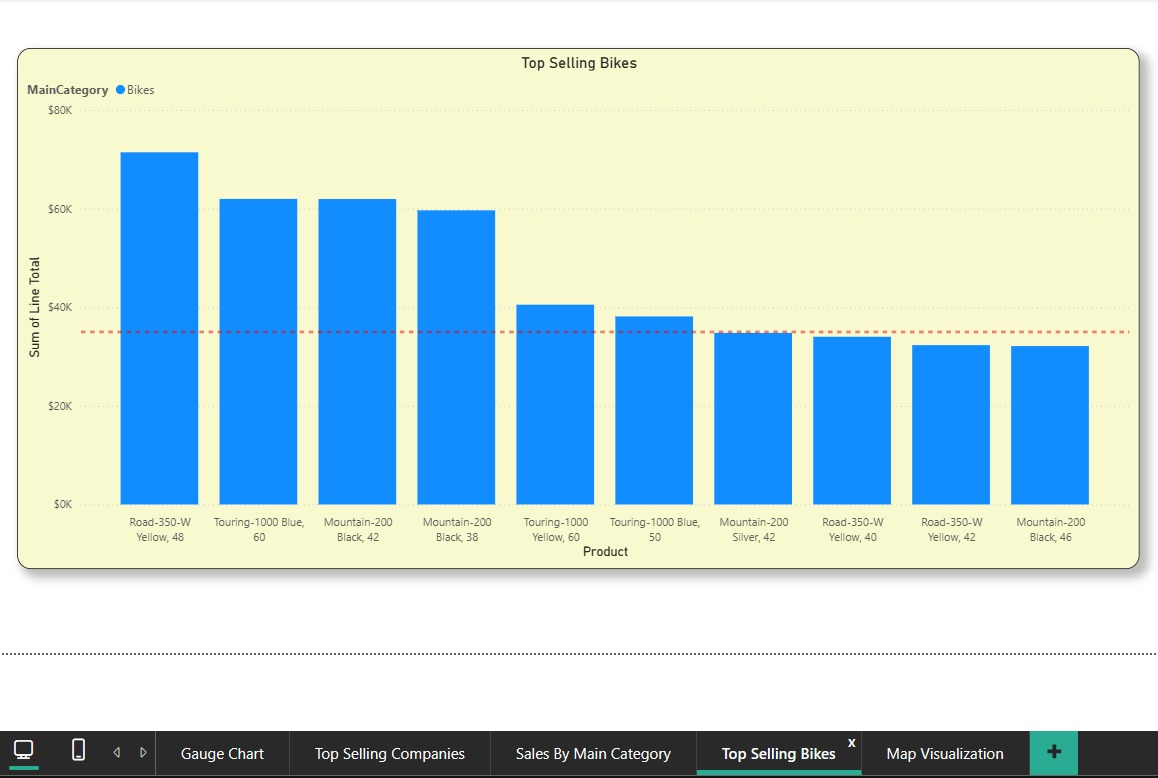

This screenshot's page, from the dashboard's own definition file:
{"tool":"powerbi","page":{"name":"Top Selling Bikes","canvas":[1280,720],"ordinal":3},"visuals":[{"type":"columnChart","title":"Top Selling Bikes","fields":{"Category":["Sales.Product"],"Y":["Sum(Sales.Line Total)"],"Series":["Sales.MainCategory"]},"box":[23.3,54.9,1232.3,572.2],"z":0}]}

Visuals, with their boxes on the page's 1280x720 design canvas (x1, y1, x2, y2). These are canvas units, not pixel positions in the 1158x778 screenshot, which may show the page scaled, cropped or inside an application window:
"Top Selling Bikes" columnChart: [23,55,1256,627]
